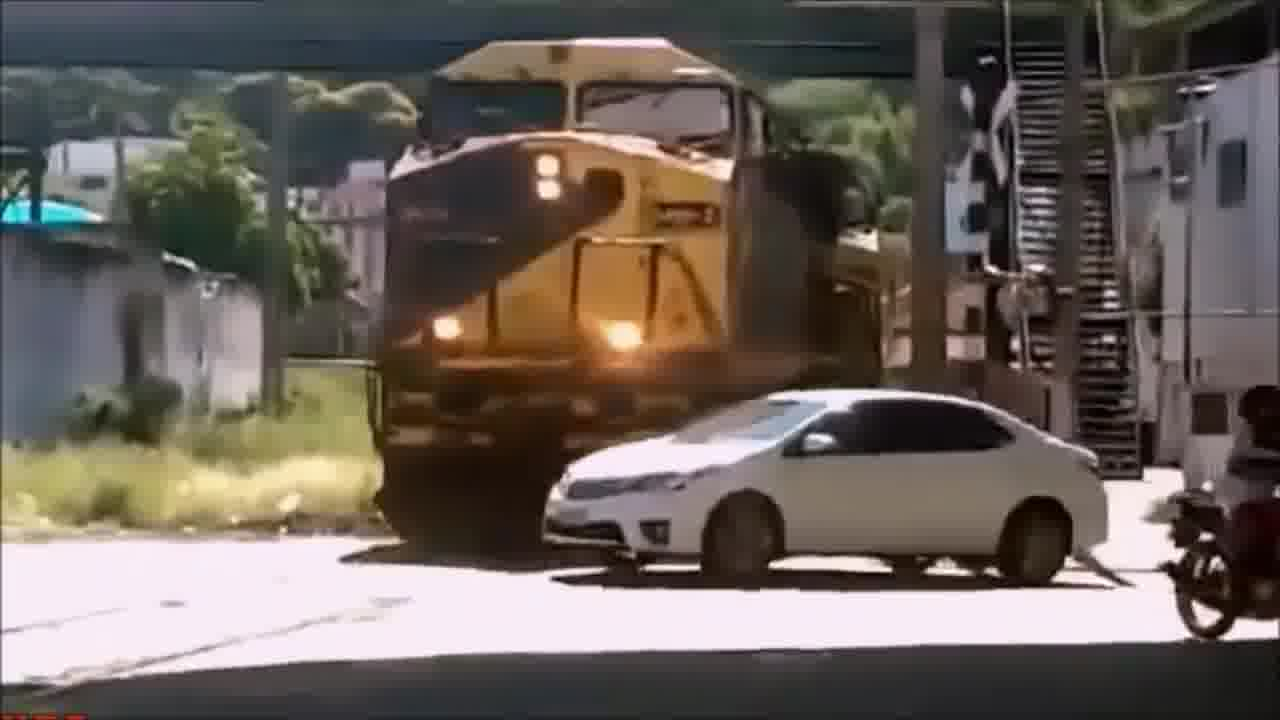crossing railway track: (512, 386, 1156, 612)
